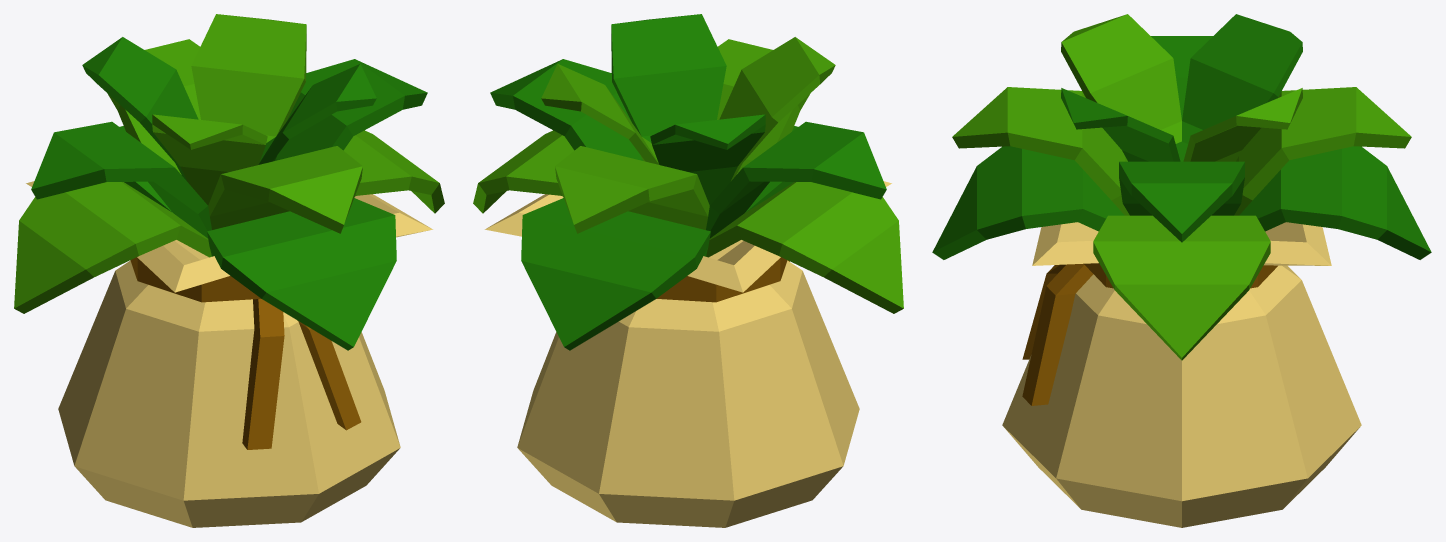
Rendered from MedicinalHerb_01.fbx.
The picture shows the model from 3 angles, left to right: view 1: azimuth 30°, elevation 25°; view 2: azimuth 150°, elevation 25°; view 3: azimuth 270°, elevation 25°; orthographic projection.
Visible parts, largest first — view 1: MedicinalHerb_01; view 2: MedicinalHerb_01; view 3: MedicinalHerb_01.
Boxes of the visible parts, x1,y1,x2,y2 form: MedicinalHerb_01: (14, 14, 444, 527); MedicinalHerb_01: (473, 14, 903, 527); MedicinalHerb_01: (932, 14, 1431, 527).
Bounding box in the file's own units: 41.47 × 37.82 × 41.47.
Materials: 1 (1 with a texture image).
